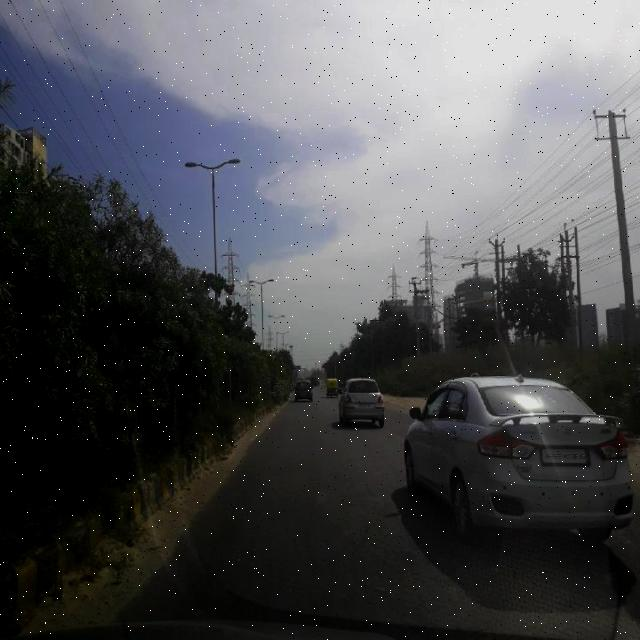D20: (167, 447, 443, 613)
